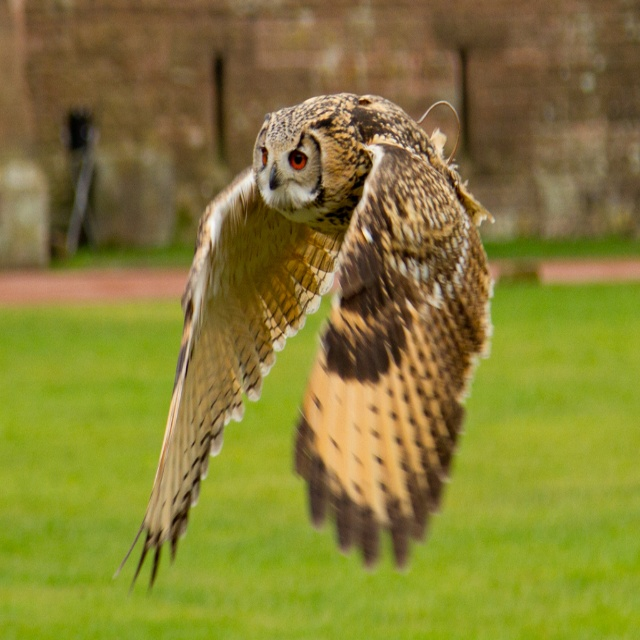Owl: (114, 89, 498, 594)
